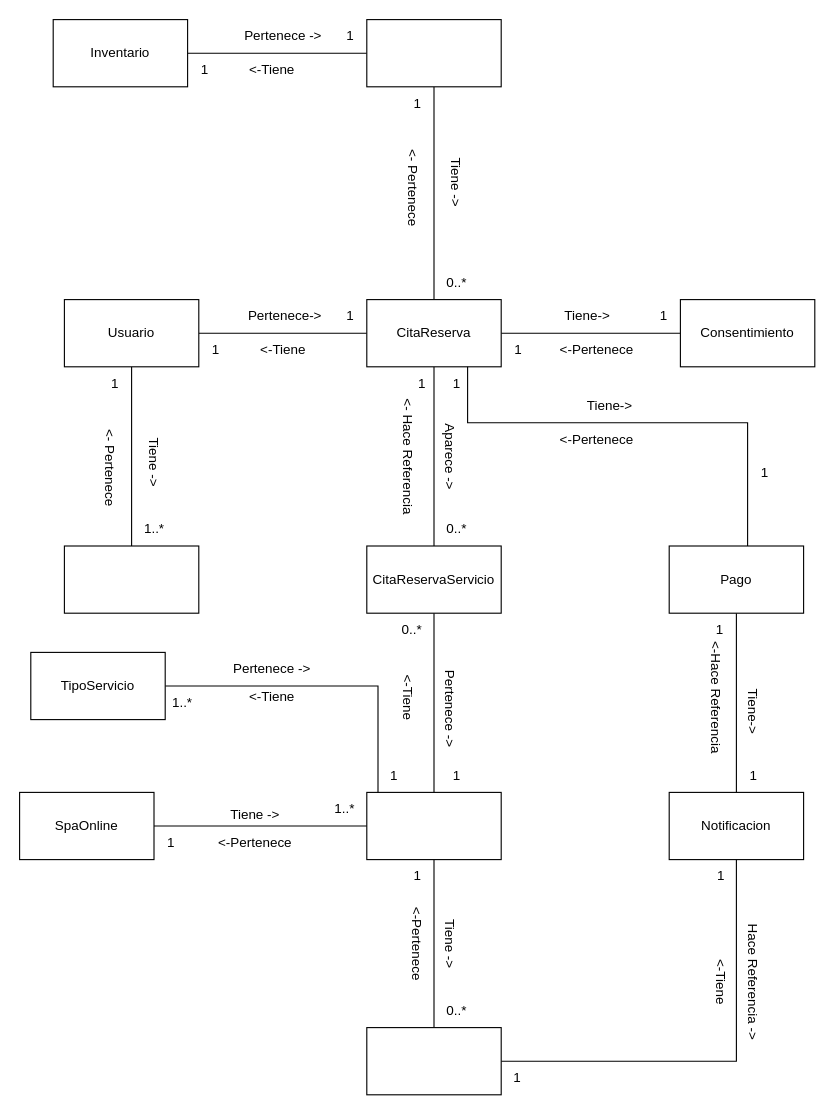
Image size: 834x1114. Some labels were removed from this diagram. Here are the shapes that lost their labels. From the top down, the centre of each, then its label:
At (433,52): "Sucursal".
At (131,579): "TipoUsuario".
At (433,825): "Servicio".
At (433,1060): "Ofertas".
